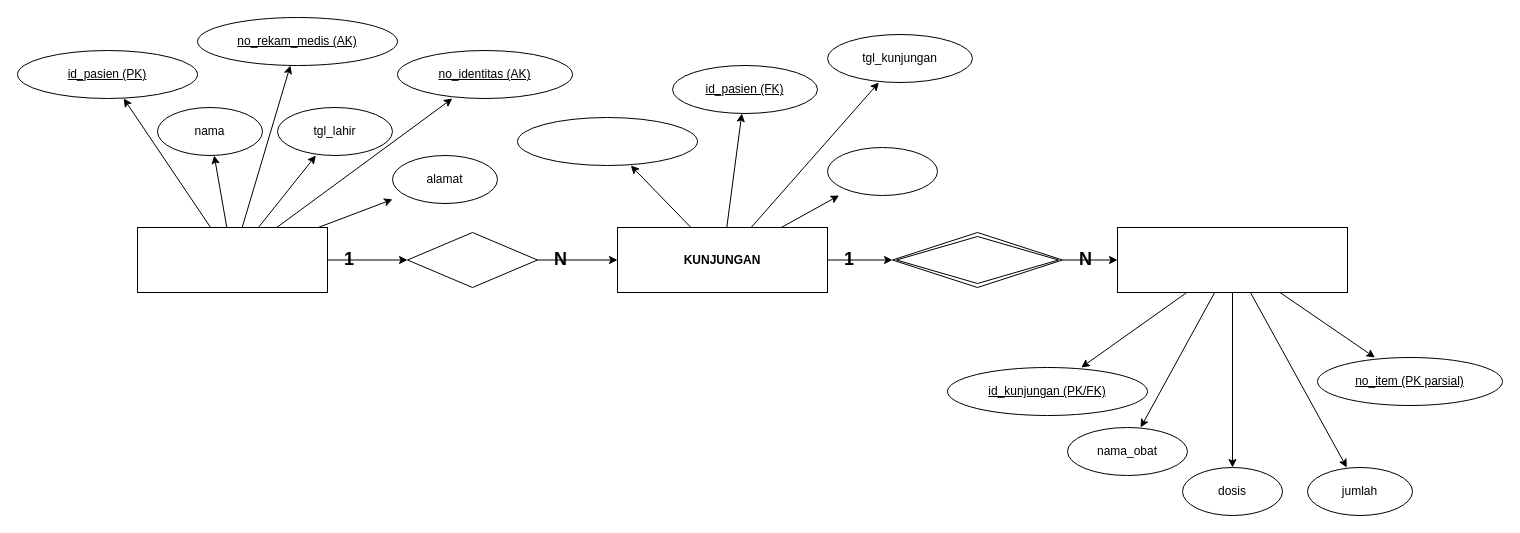
Some shapes in this 1520 by 533 pixel diagram are drawn without their labels. Each missing label, with the centre of its shape:
"DETAIL_RESEP" goes at pixel 1232 259.
"id_kunjungan (PK)" goes at pixel 607 141.
"keluhan" goes at pixel 882 171.
"MEMILIKI" goes at pixel 472 260.
"MENGHASILKAN" goes at pixel 977 260.
"PASIEN" goes at pixel 232 259.
